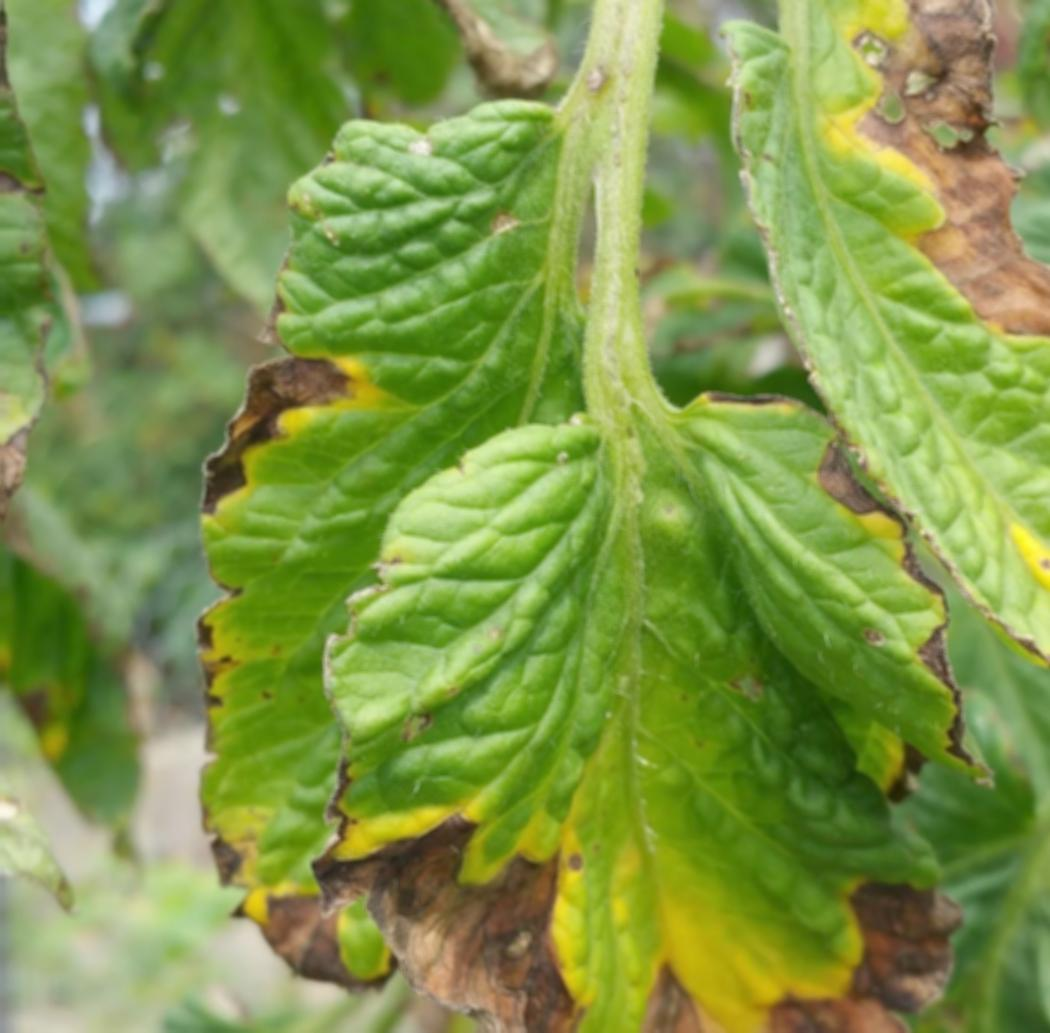Tomato leaf bacterial spot: (149, 78, 635, 1011), (311, 351, 951, 1033), (724, 0, 1050, 811)
